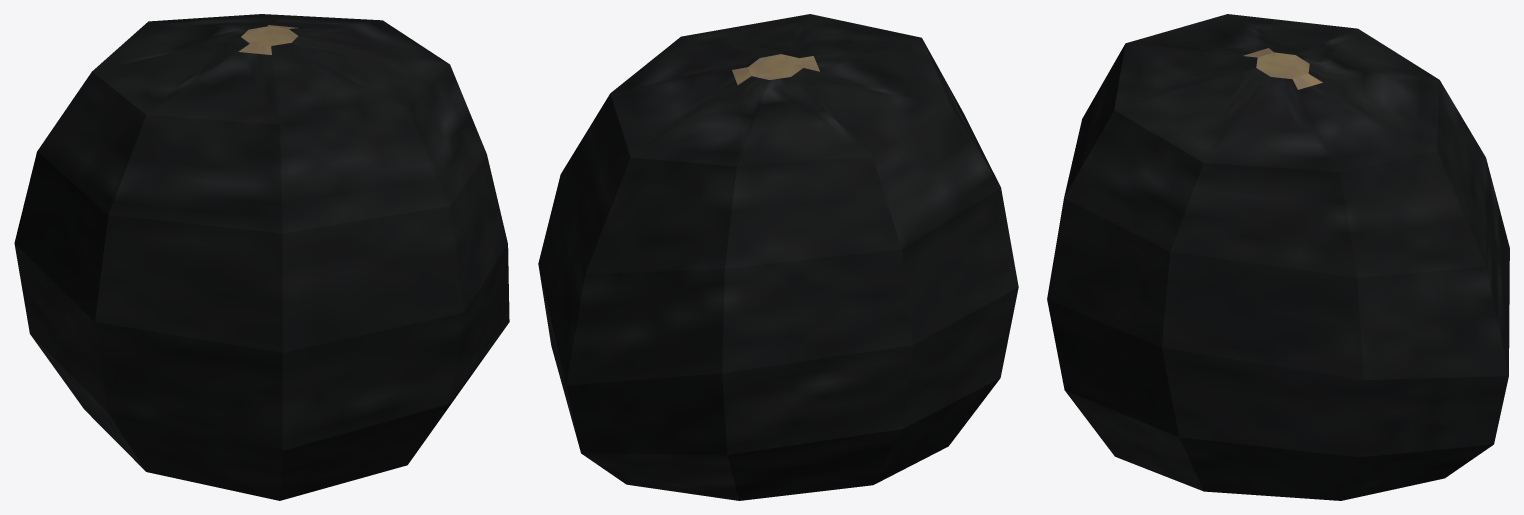
Rendered from SM_EC_KitchenBin_TrashBag_0.fbx.
3 views of the same model, side by side, from view 1: azimuth 30°, elevation 25°; view 2: azimuth 150°, elevation 25°; view 3: azimuth 270°, elevation 25° (orthographic). The views are drawn at different scales.
Parts seen in each view (by area): view 1: SM_EC_KitchenBin_TrashBag_0; view 2: SM_EC_KitchenBin_TrashBag_0; view 3: SM_EC_KitchenBin_TrashBag_0.
Boxes of the visible parts, x1,y1,x2,y2 form: SM_EC_KitchenBin_TrashBag_0: (14, 14, 509, 500); SM_EC_KitchenBin_TrashBag_0: (538, 14, 1018, 500); SM_EC_KitchenBin_TrashBag_0: (1047, 14, 1509, 500).
Bounding box in the file's own units: 0.4619 × 0.4556 × 0.4142.
